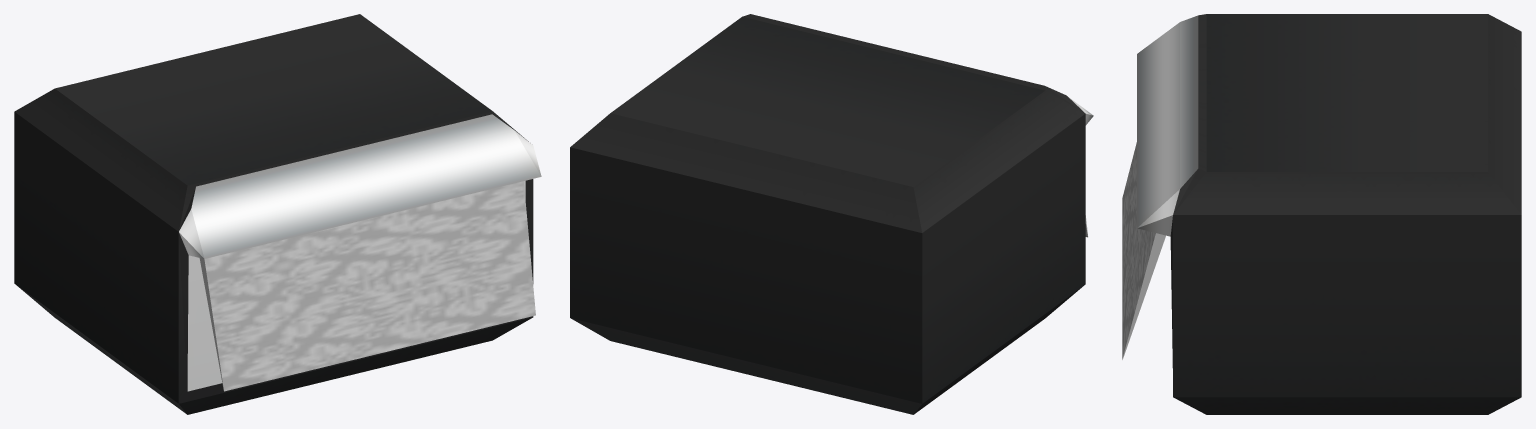
The model's file is Napkin Dispenser.FBX.
The picture shows the model from 3 angles, left to right: view 1: azimuth 30°, elevation 25°; view 2: azimuth 150°, elevation 25°; view 3: azimuth 270°, elevation 25°; orthographic projection. The views are drawn at different scales.
Parts seen in each view (by area): view 1: Napkin Dispenser; view 2: Napkin Dispenser; view 3: Napkin Dispenser.
Boxes of the visible parts, <box> form: Napkin Dispenser: <box>14,14,541,414</box>; Napkin Dispenser: <box>570,14,1093,414</box>; Napkin Dispenser: <box>1122,14,1521,414</box>.
Bounding box in the file's own units: 80.89 × 50.2 × 74.48.
